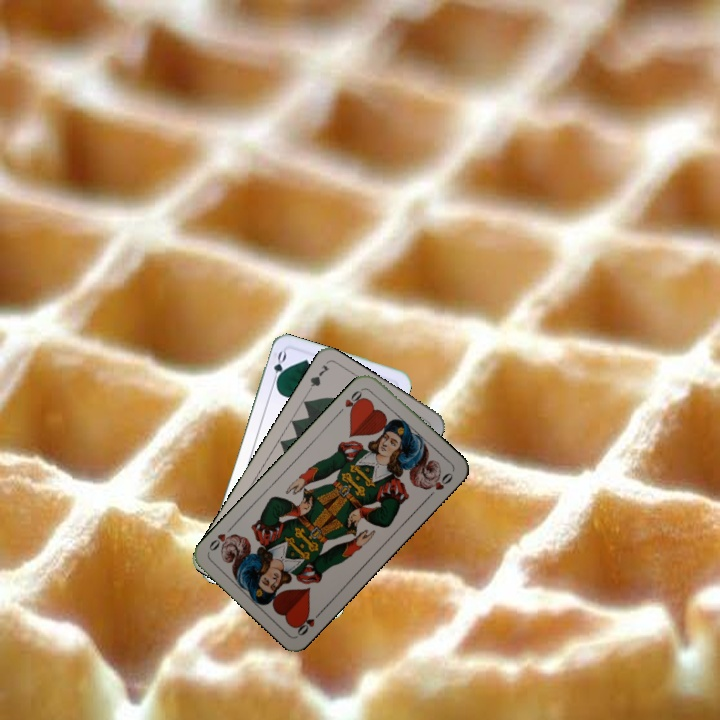G7: (302, 361, 332, 397)
GO: (268, 347, 289, 388)
HO: (291, 606, 326, 638), (334, 384, 367, 417)
